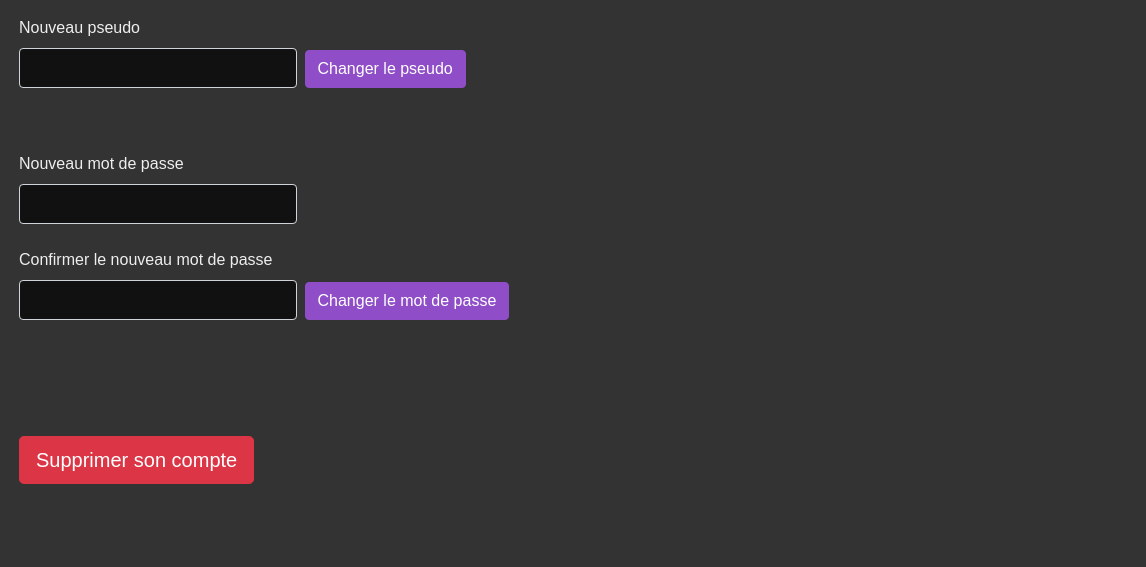
Scenario: Change the nickname
Type "Jadziaa" into the field labelled "Nouveau pseudo".
click(158, 68); type("Jadziaa")  # box [19, 48, 296, 88]
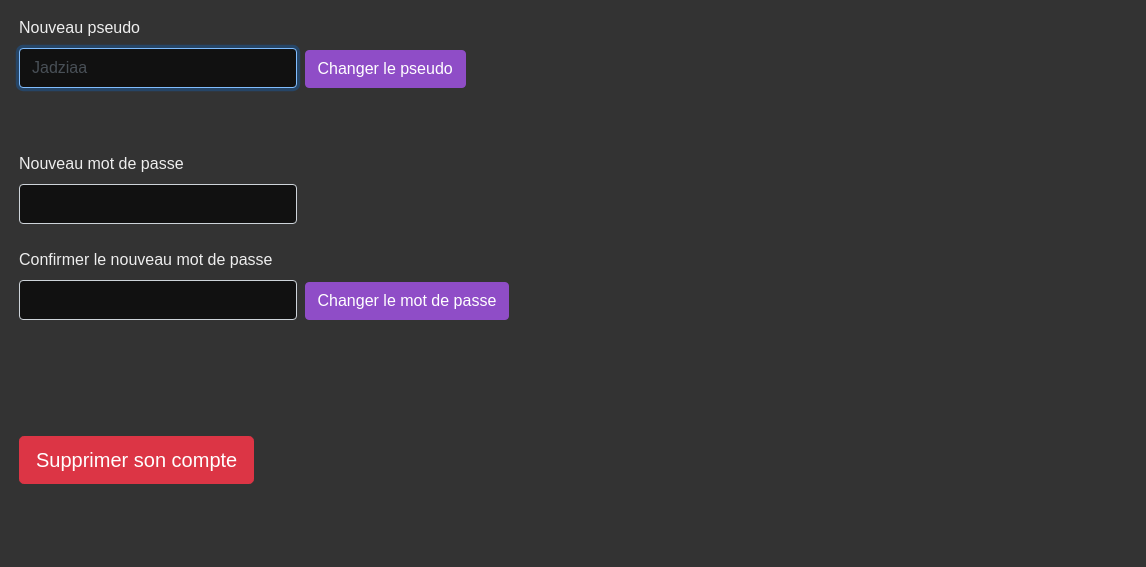
Click the button "Changer le pseudo".
click(385, 69)  # box [304, 50, 466, 88]
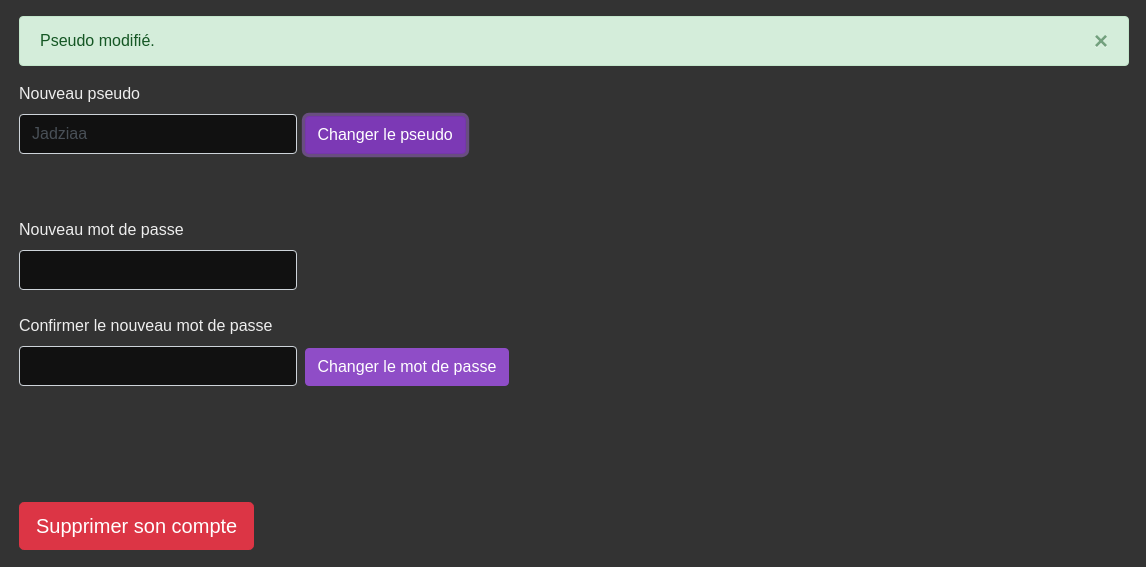
Expected: the message shows "Pseudo modifié.", [40, 32, 155, 49]
